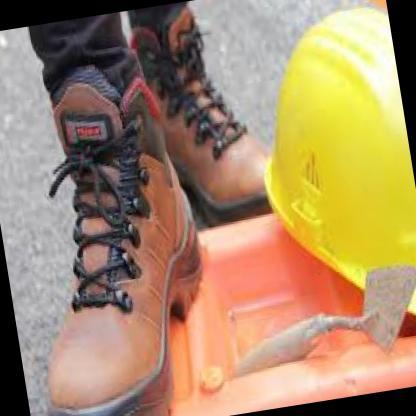safety-shoe: (2, 67, 233, 415), (130, 6, 287, 235)
